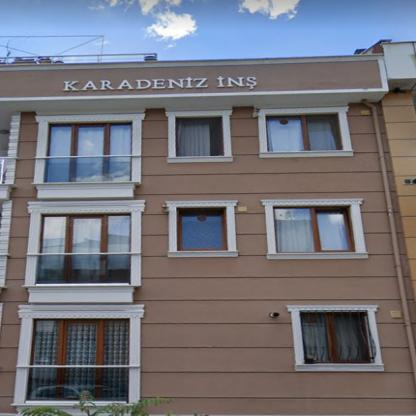window: (32, 321, 128, 365), (41, 215, 130, 253), (274, 209, 352, 252), (301, 315, 369, 360), (47, 124, 131, 157), (266, 115, 340, 151), (179, 211, 226, 250), (177, 118, 223, 157)
